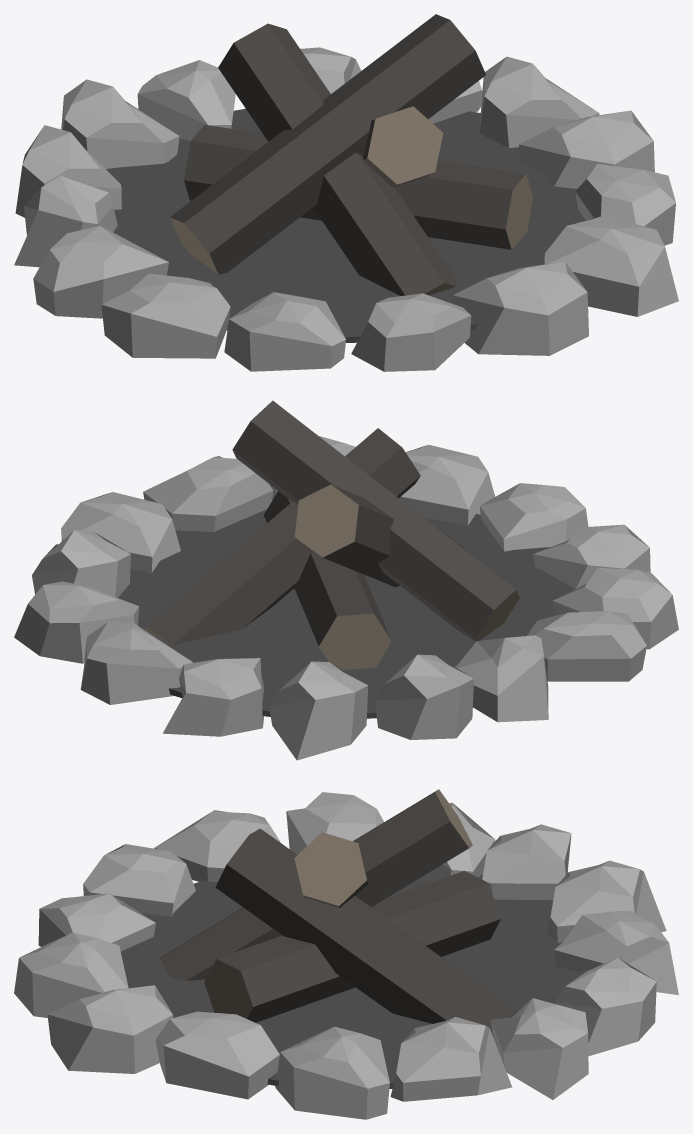
The model's file is Campfire.fbx.
3 renders of one model, top to bottom at view 1: azimuth 30°, elevation 25°; view 2: azimuth 150°, elevation 25°; view 3: azimuth 270°, elevation 25°, orthographic. The views are drawn at different scales.
Visible parts, largest first — view 1: pCylinder5; view 2: pCylinder5; view 3: pCylinder5.
Part boxes in pixels (left/top/right/bottom): pCylinder5: left=14, top=14, right=678, bottom=371; pCylinder5: left=14, top=400, right=678, bottom=760; pCylinder5: left=14, top=789, right=678, bottom=1119.
Size of the model in its own units: 5.76 by 2.21 by 5.77.
